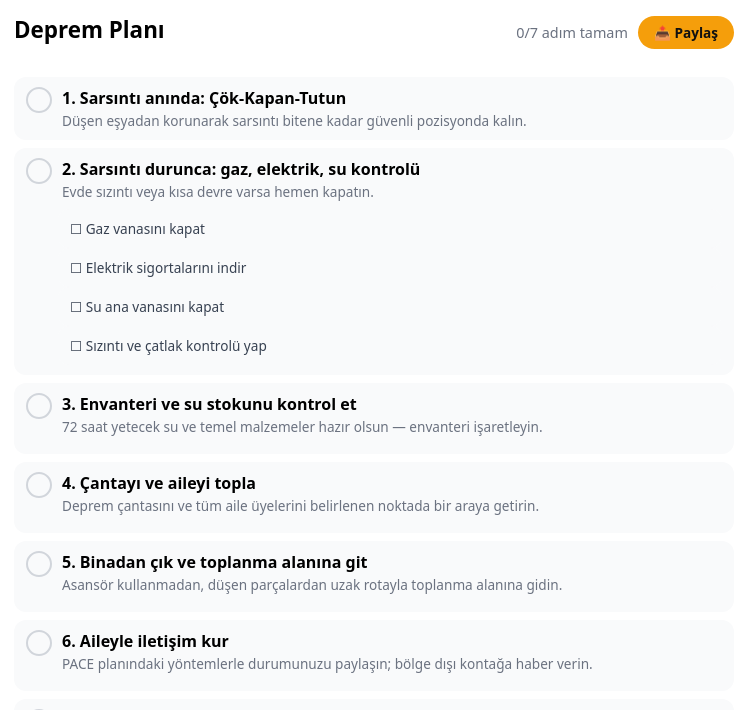
PlanDetail — Mark Complete › toggling a step persists and updates the progress counter
// ilk adımı tamamla
Click the button with class "stephead" that starts with "1. Sarsıntı anında: Çök-Kapan-Tutun" at (374, 108), box 26,87 -> 722,130
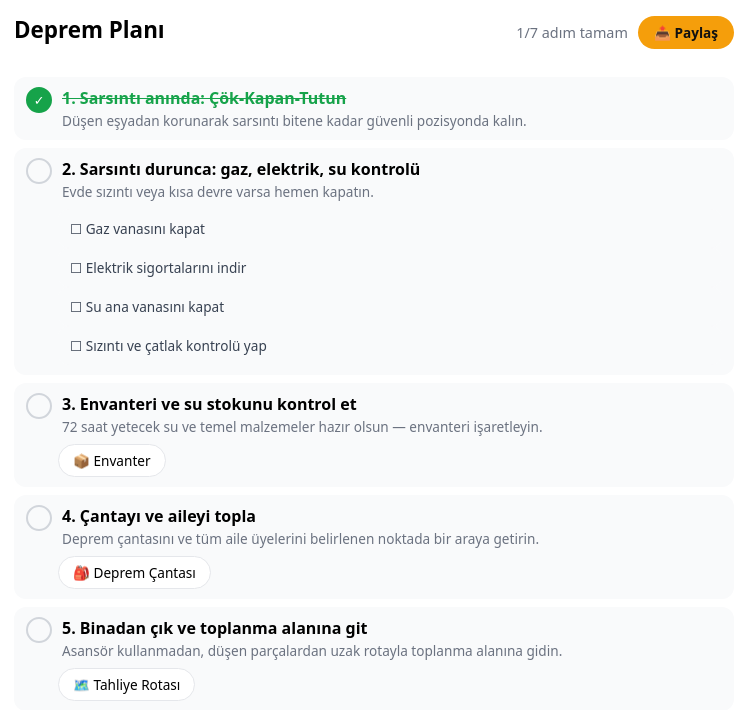
expect the text "1/7 adım tamam" is shown: met, box 516,23 -> 628,42
